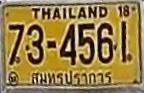1: (120, 21, 128, 62)
3: (25, 24, 43, 63)
4: (59, 23, 75, 64)
5: (77, 22, 94, 63)
6: (96, 22, 114, 62)
7: (8, 24, 24, 63)
SPK: (29, 69, 116, 88)
